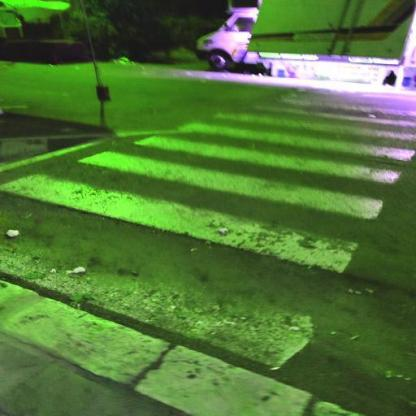crosswalk: (32, 132, 408, 224)
